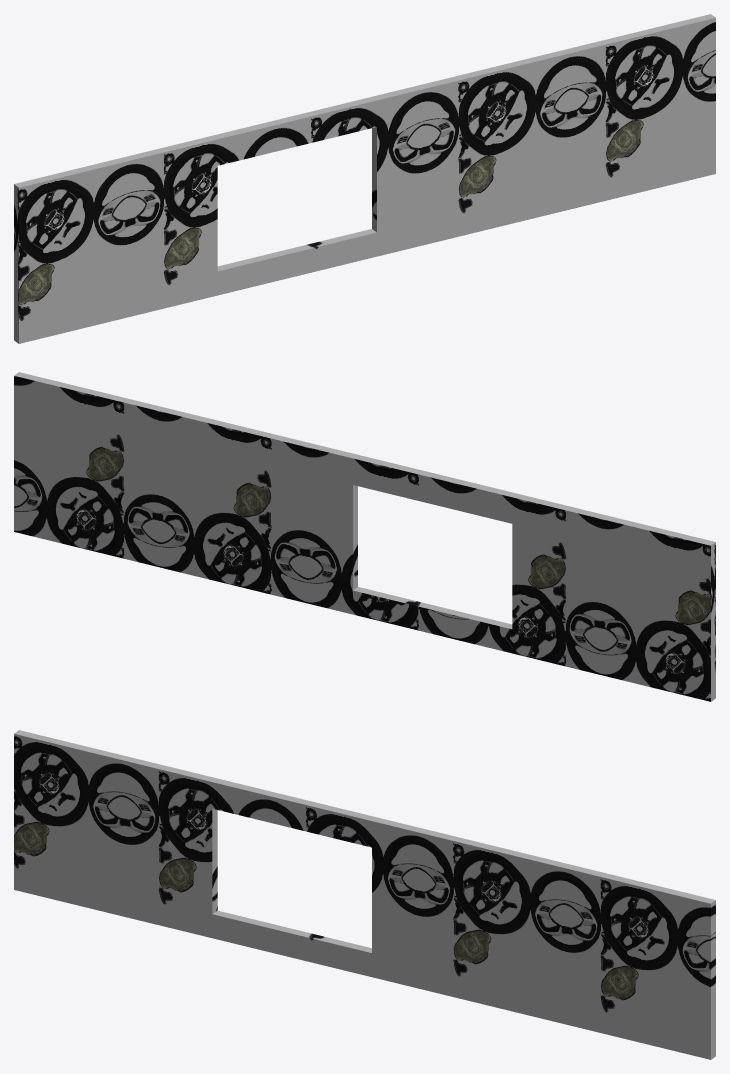
File: Counter_Top_A.obj
3 views of the same model, one above another, from view 1: azimuth 30°, elevation 25°; view 2: azimuth 150°, elevation 25°; view 3: azimuth 330°, elevation 25° (orthographic).
Bounding box in the file's own units: 3.02 × 0.6477 × 0.0381.
